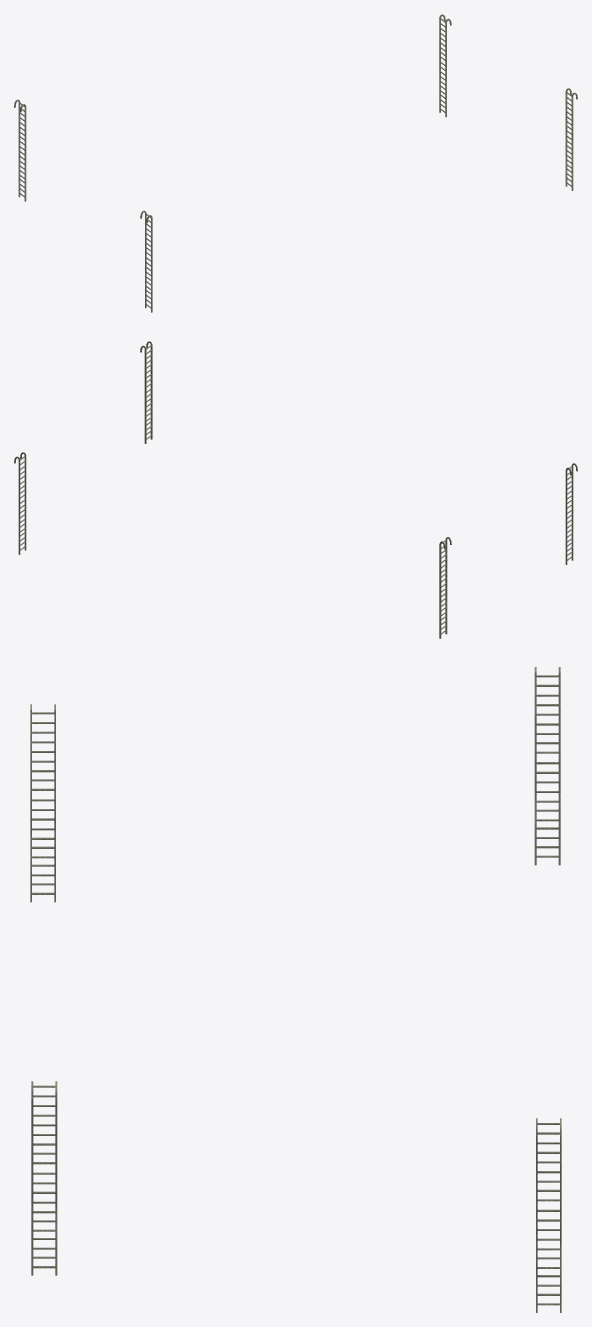
Rendered from SM_NeoLD_06_Ladder_00.fbx.
3 views of the same model, one above another, from view 1: azimuth 30°, elevation 25°; view 2: azimuth 150°, elevation 25°; view 3: azimuth 270°, elevation 25° (orthographic). The views are drawn at different scales.
Visible parts, largest first — view 1: SM_NeoLD_06_Ladder_00; view 2: SM_NeoLD_06_Ladder_00; view 3: SM_NeoLD_06_Ladder_00.
Part boxes in pixels (bbox=[...]): SM_NeoLD_06_Ladder_00: bbox=[14, 14, 577, 312]; SM_NeoLD_06_Ladder_00: bbox=[14, 341, 577, 638]; SM_NeoLD_06_Ladder_00: bbox=[30, 667, 561, 1312].
Size of the model in its own units: 5747 by 1478 by 3067.
